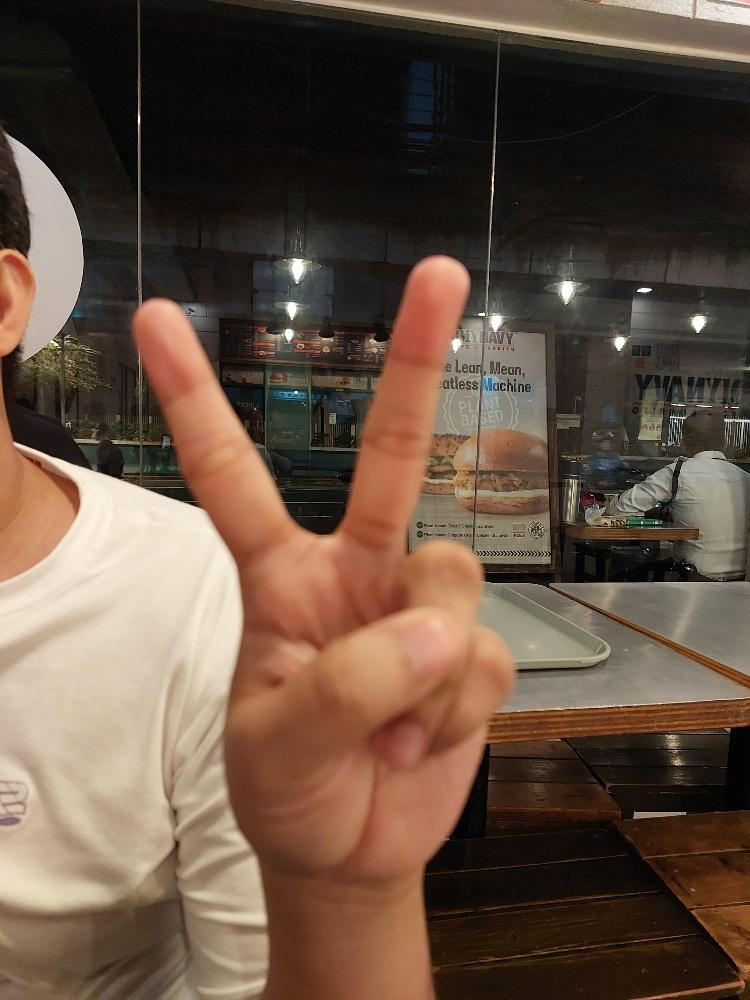v: (127, 253, 519, 891)
